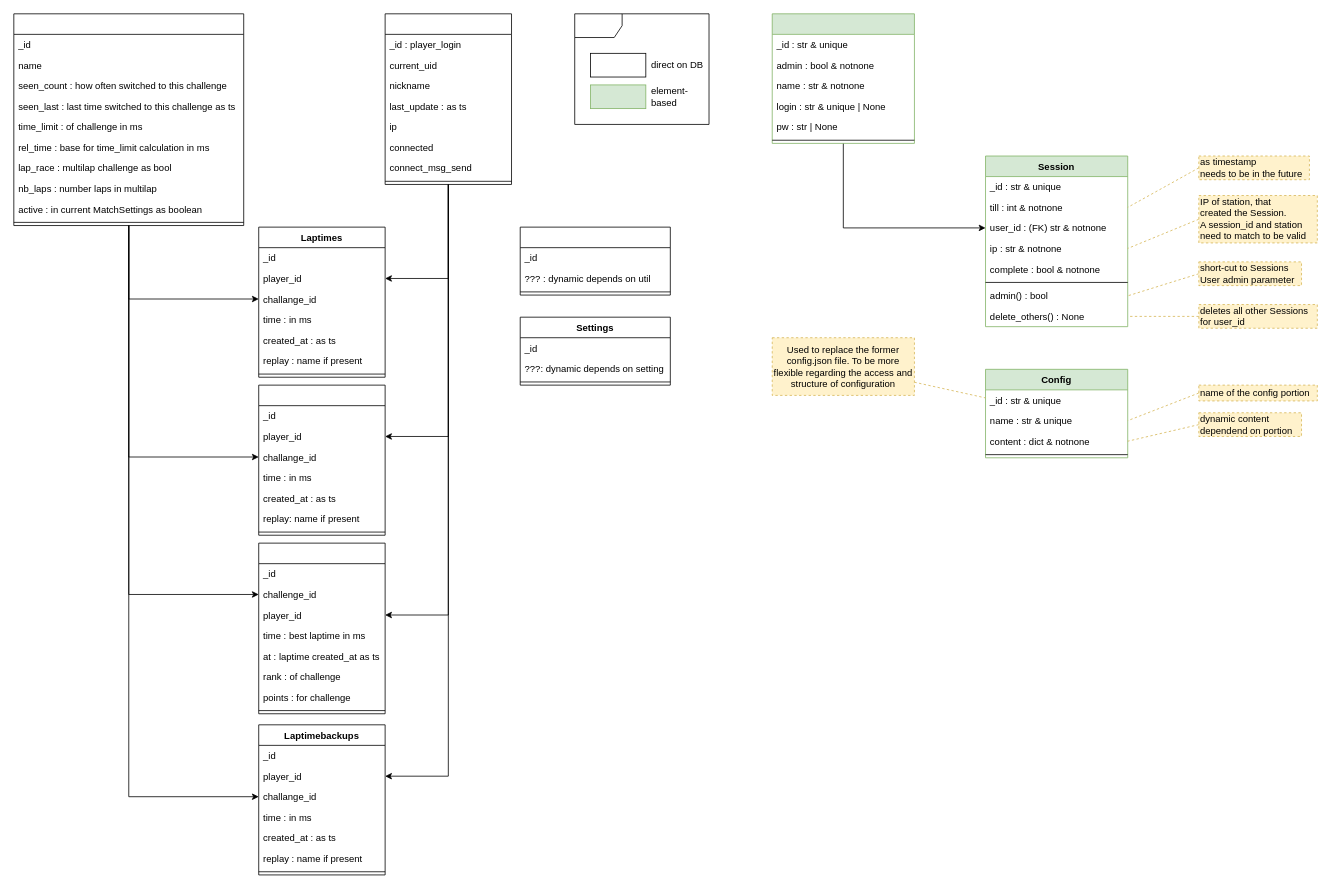
Some shapes in this 1331 by 889 pixel diagram are drawn without their labels. The box of each missing label's shape, as (x1, y1, x2, y2) in pixels:
Bestlaptimes: (258, 384, 385, 535)
Challanges: (13, 13, 244, 226)
legend: (574, 13, 709, 124)
Players: (384, 13, 512, 184)
Rankings: (258, 542, 385, 714)
User: (771, 13, 914, 143)
Utils: (519, 226, 670, 295)
